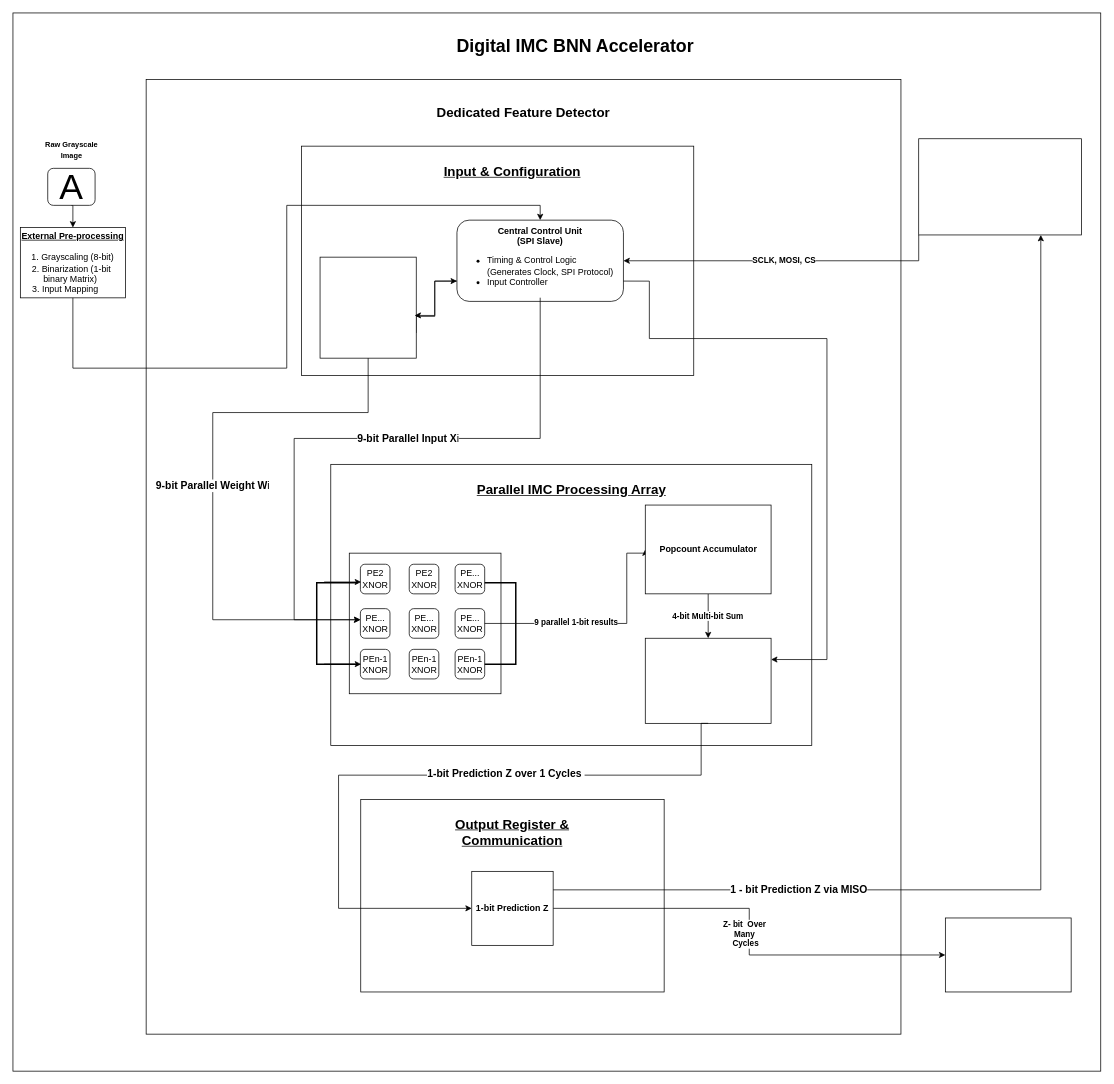
Image size: 1114x1084. Some labels were removed from this diagram. Each missing label, with the centre of its shape:
"Digital Activation Function Load Threshold If sum >= thershold then 1 else 0" belongs at (708,680).
"External Host/Controller (SPI Master) Configures Weights Threshold Timiing" belongs at (1000,186).
"Feature Map Logic Maps the Collected Z bits" belongs at (1008,954).
"S-Ram Weight (+1/-1) and 4-bit Threshold in Memory" belongs at (367,307).
